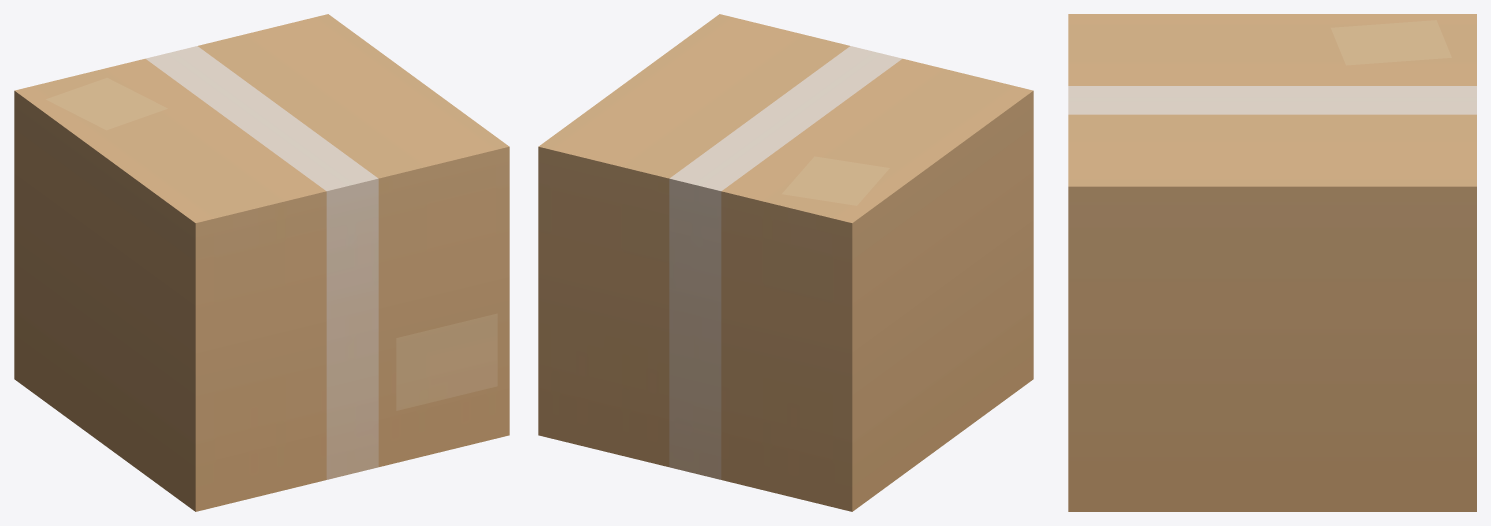
The picture shows the model from 3 angles, left to right: view 1: azimuth 30°, elevation 25°; view 2: azimuth 150°, elevation 25°; view 3: azimuth 270°, elevation 25°; orthographic projection. The views are drawn at different scales.
Parts seen in each view (by area): view 1: box_A; view 2: box_A; view 3: box_A.
Part boxes in pixels (x1,y1,x2,y2): box_A: [14, 14, 509, 511]; box_A: [538, 14, 1033, 511]; box_A: [1068, 14, 1476, 511].
Size of the model in its own units: 0.2 by 0.1764 by 0.2031.
1 material, 1 textured.
